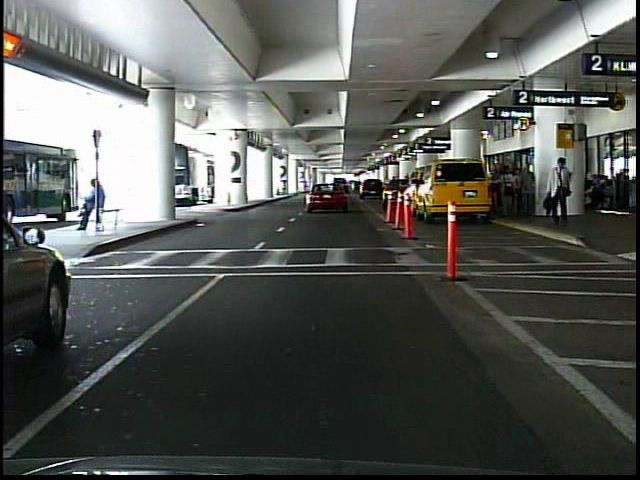person: (544, 158, 575, 228), (519, 163, 539, 219), (502, 165, 518, 219)
